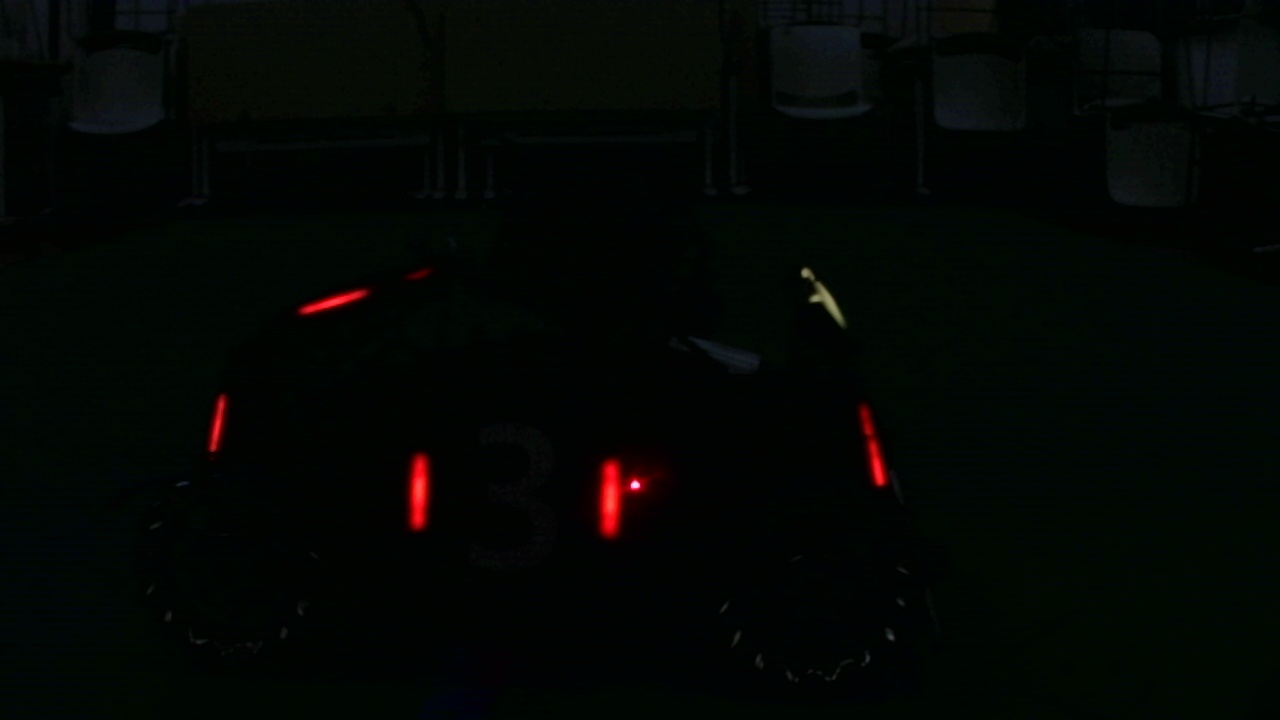lamp: (591, 450, 623, 537), (859, 390, 888, 486), (410, 447, 432, 534), (201, 381, 225, 457)
notpair1: (596, 397, 888, 540), (204, 385, 431, 531)
pair1: (411, 453, 623, 540)
